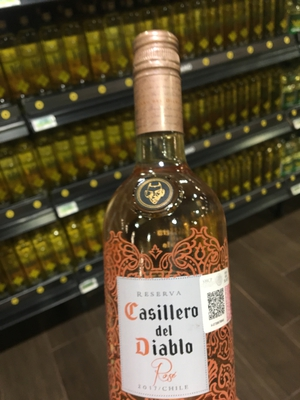casillero del diablo rose: (94, 36, 253, 400)
